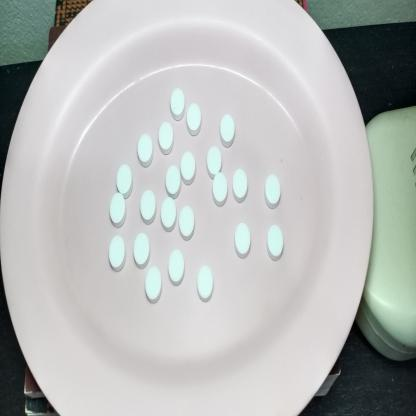Paracetamol: (263, 222, 286, 262), (144, 265, 165, 306), (114, 158, 135, 198), (106, 234, 128, 272), (233, 219, 252, 261), (196, 264, 215, 306), (167, 85, 187, 124), (262, 174, 283, 210), (108, 192, 128, 229), (135, 130, 154, 168), (133, 231, 152, 268), (168, 247, 186, 286), (178, 150, 198, 185), (203, 143, 224, 176), (178, 204, 196, 242), (210, 173, 229, 209), (157, 119, 175, 156), (233, 166, 250, 204), (186, 100, 202, 140), (140, 188, 158, 223), (219, 114, 237, 147), (165, 165, 182, 198), (160, 198, 176, 233)
